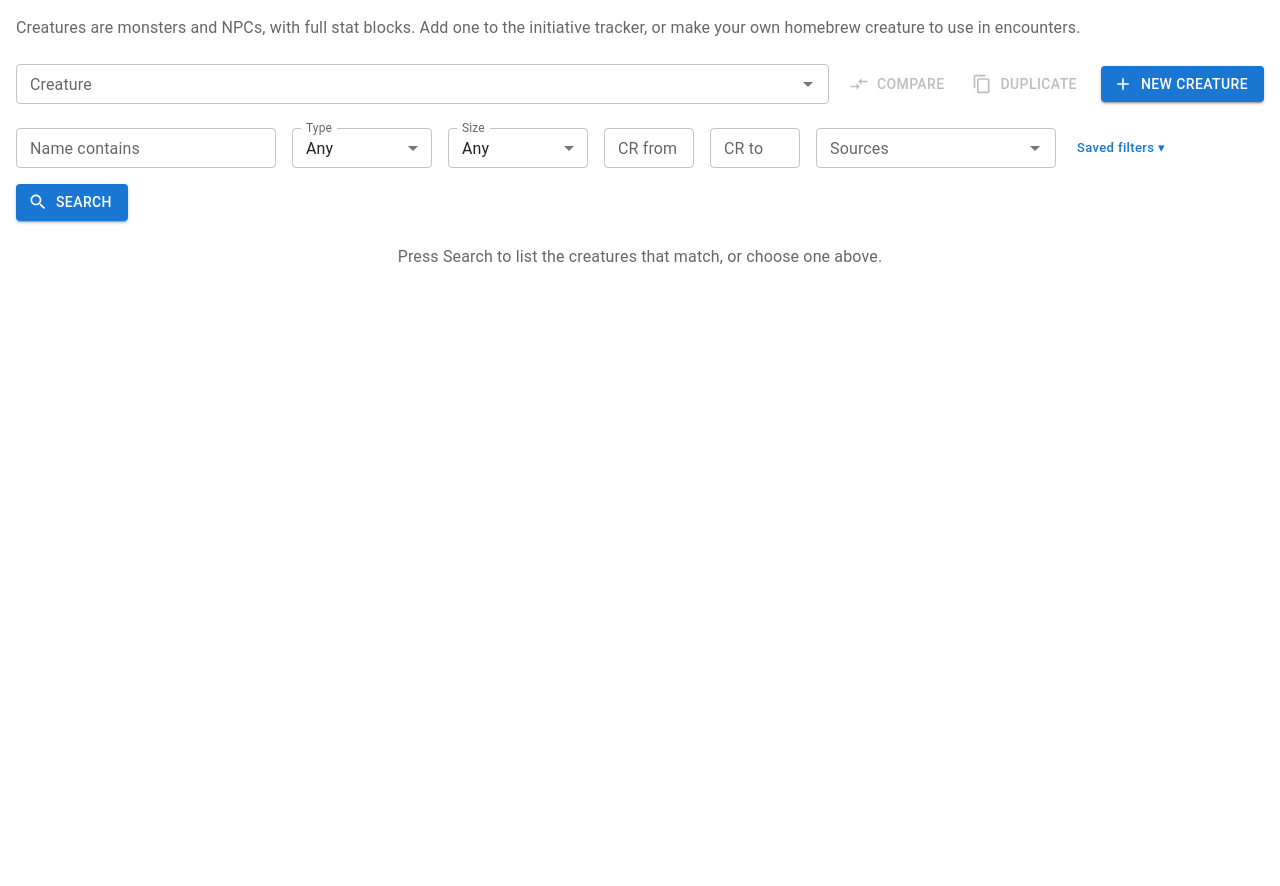
changing your own creatures › asks before deleting, and then deletes
In the dropdown labelled "Creature": [406, 84] box top-left (22, 70), bottom-right (790, 98), type "Gribble"
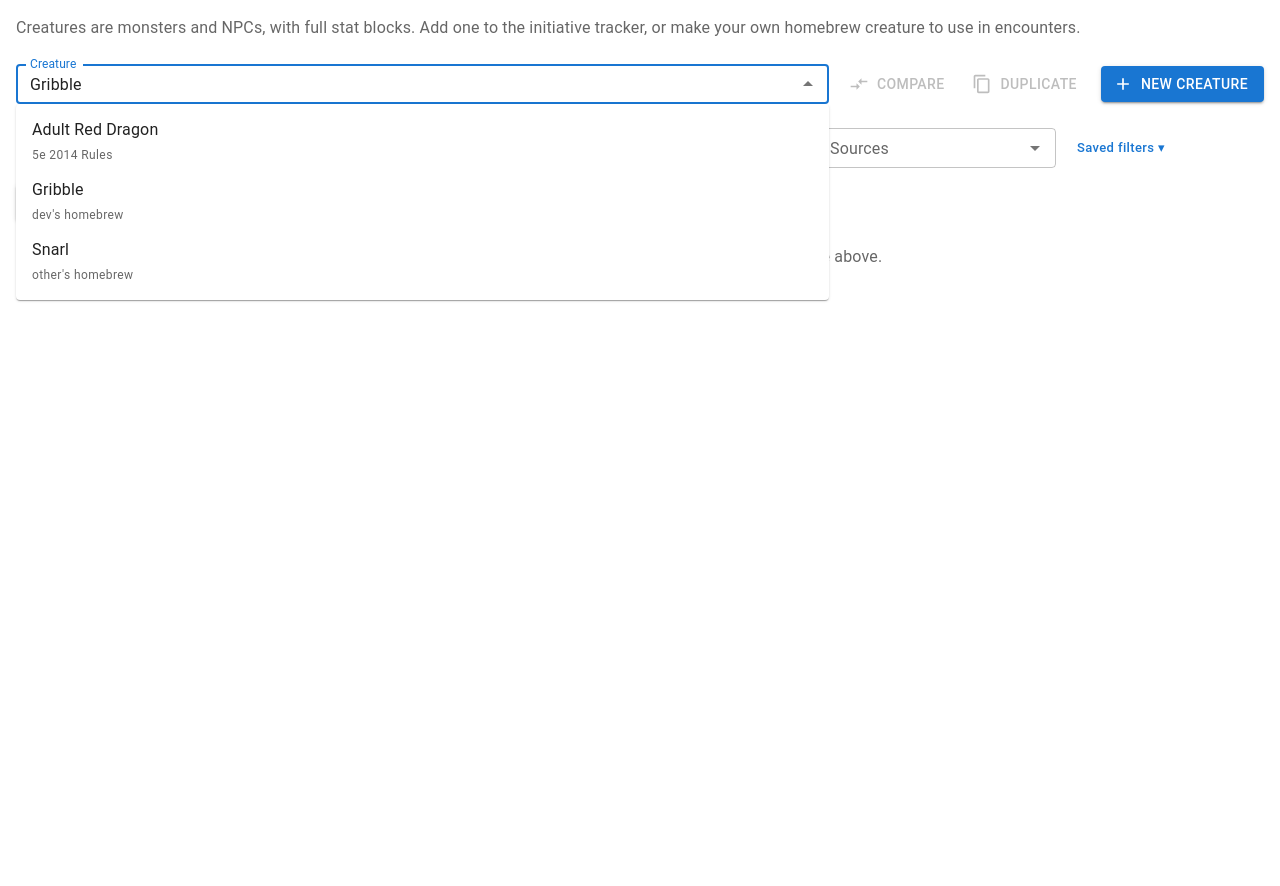
Click the option "Gribble dev's homebrew": [78, 201] box top-left (32, 180), bottom-right (124, 222)
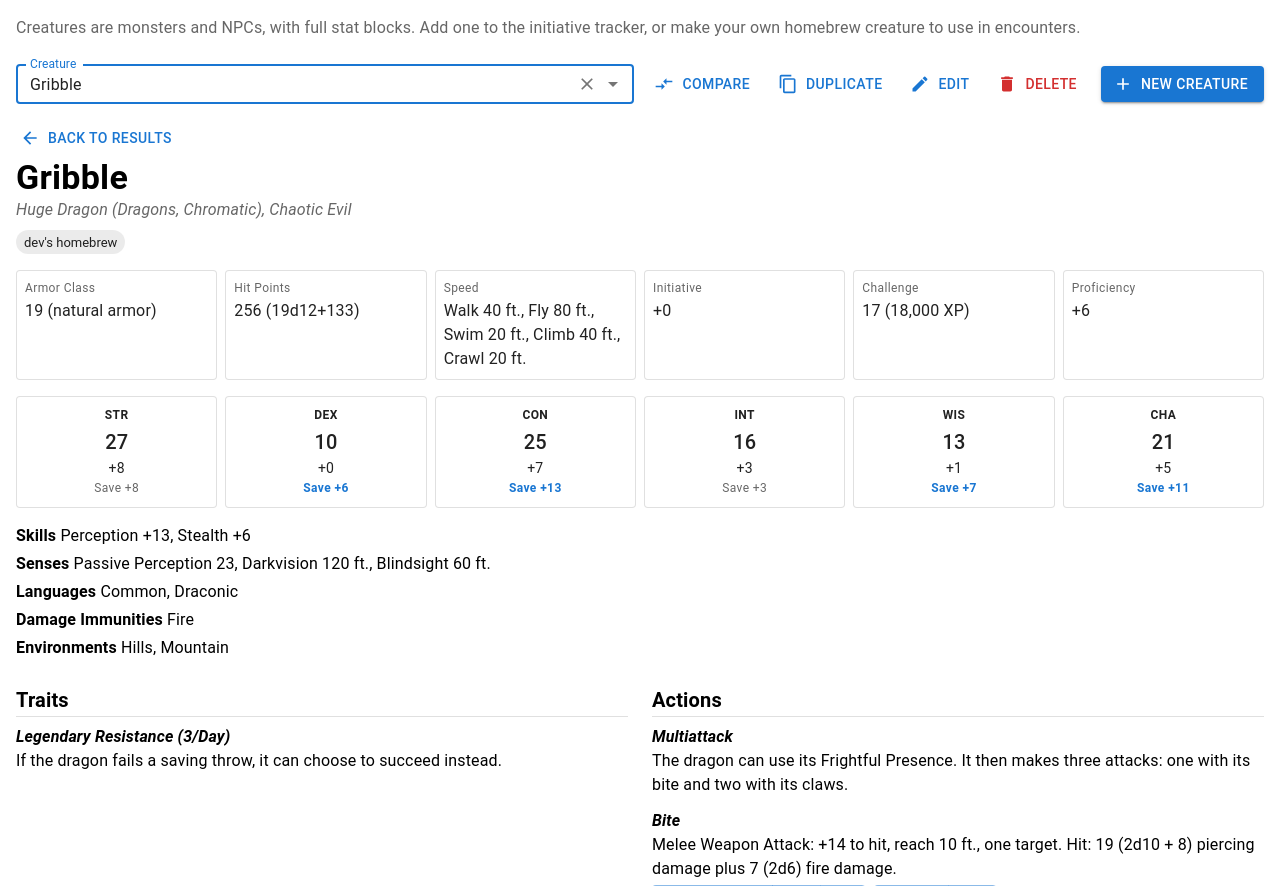
Click the button "Delete": [1039, 84] box top-left (993, 66), bottom-right (1085, 102)
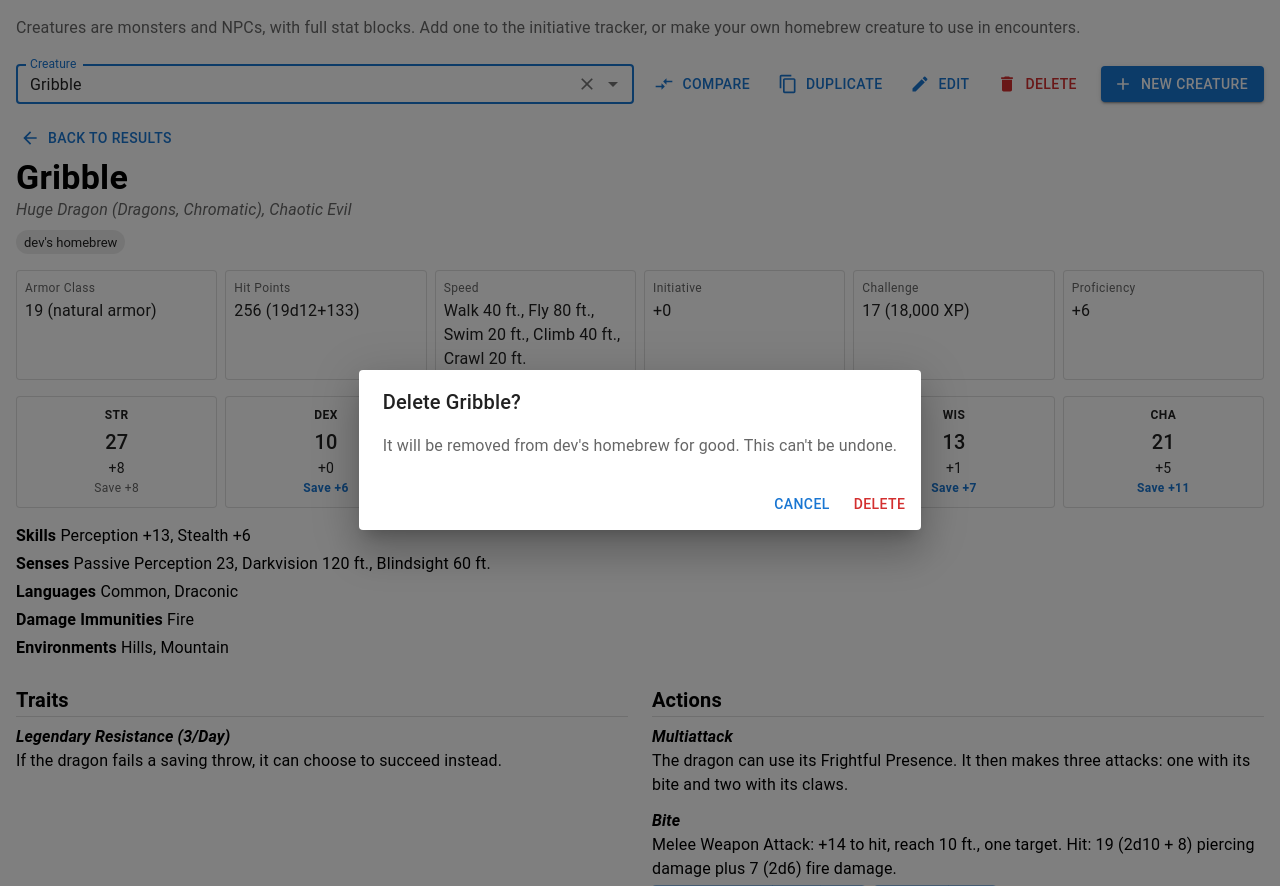
Expected: the heading "Delete Gribble?" is shown, top-left (383, 390), bottom-right (521, 414)
Click the button "Cancel": [802, 504] box top-left (766, 486), bottom-right (838, 522)
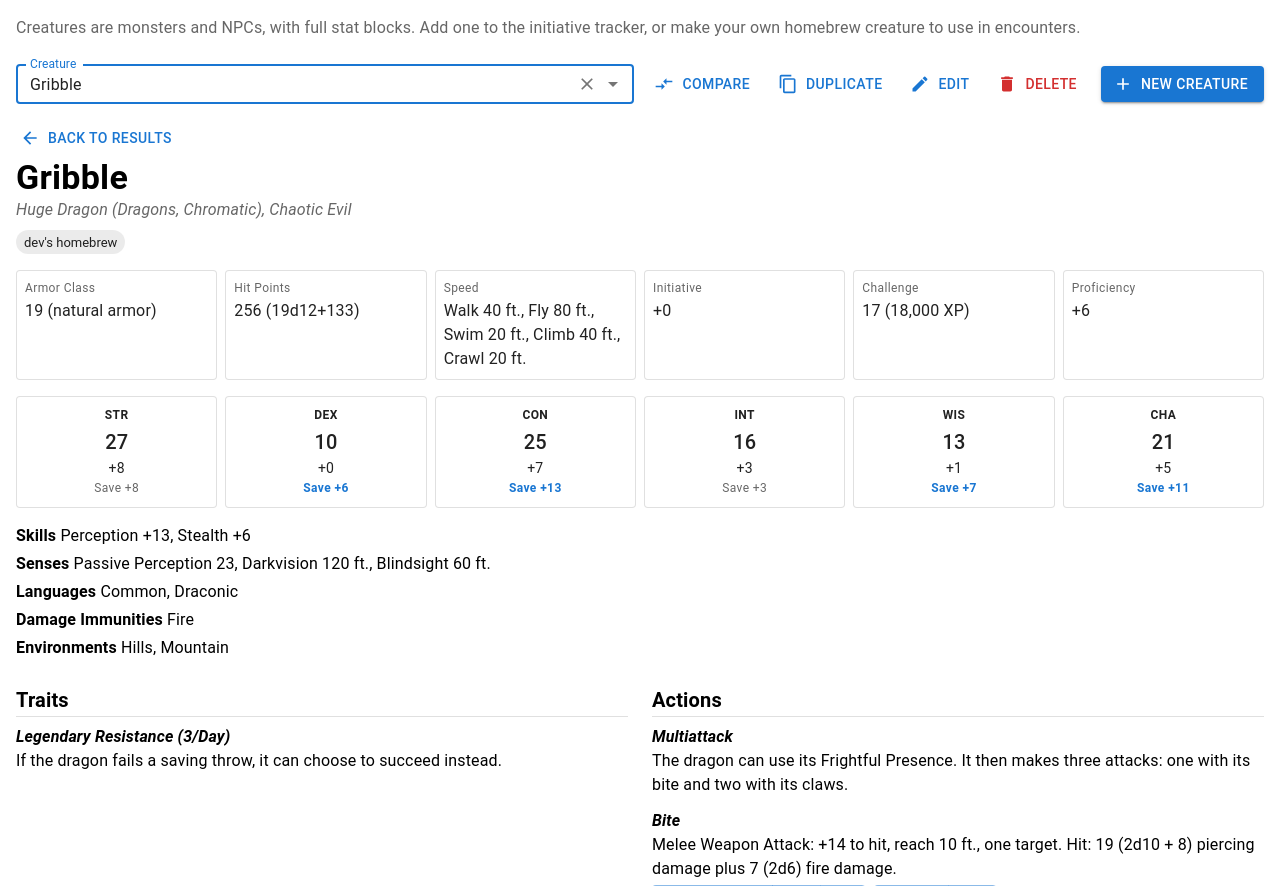
Expected: the heading "Gribble" is shown, top-left (16, 156), bottom-right (128, 196)
Expected: the dialog is gone
Click the button "Delete": [1039, 84] box top-left (993, 66), bottom-right (1085, 102)
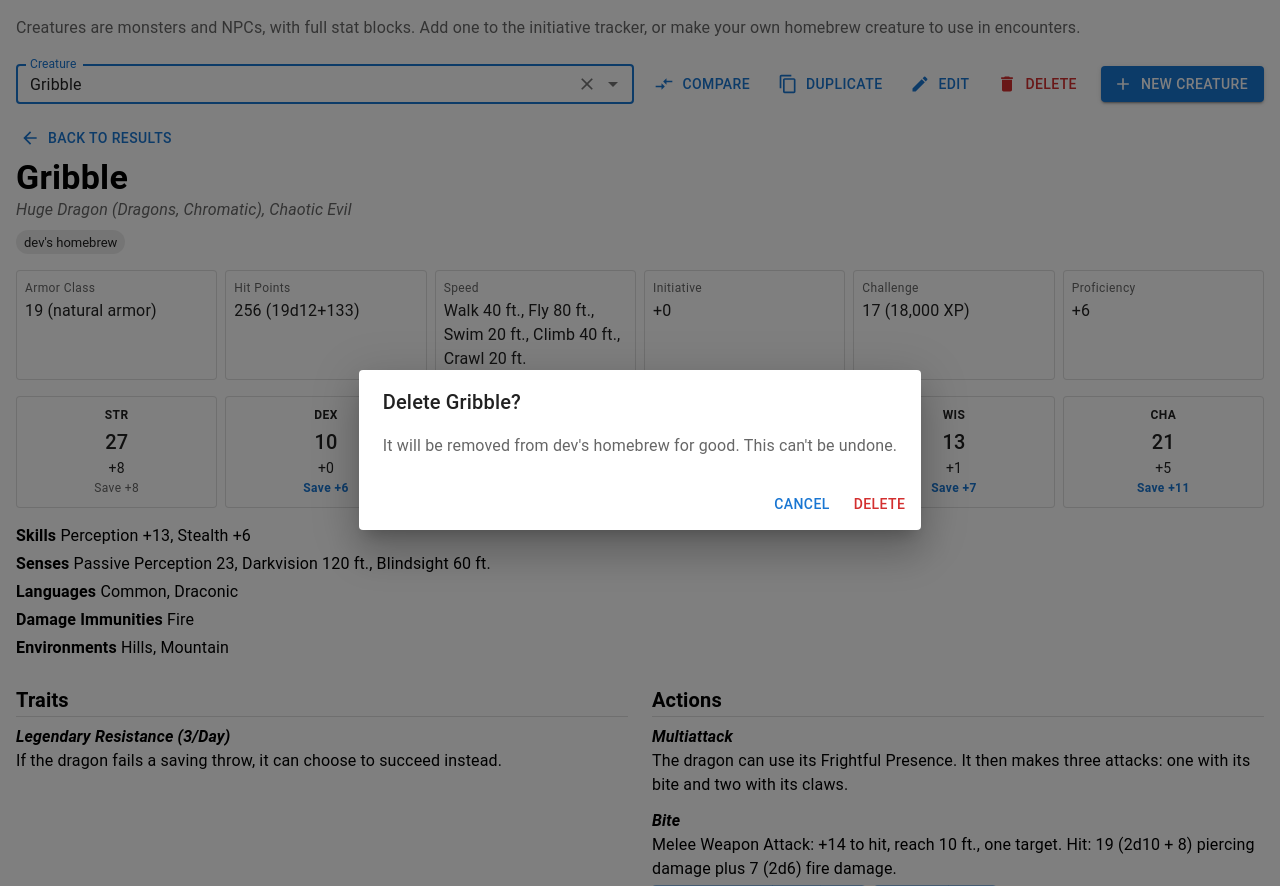
Click the button "Delete": [879, 504] box top-left (846, 486), bottom-right (913, 522)
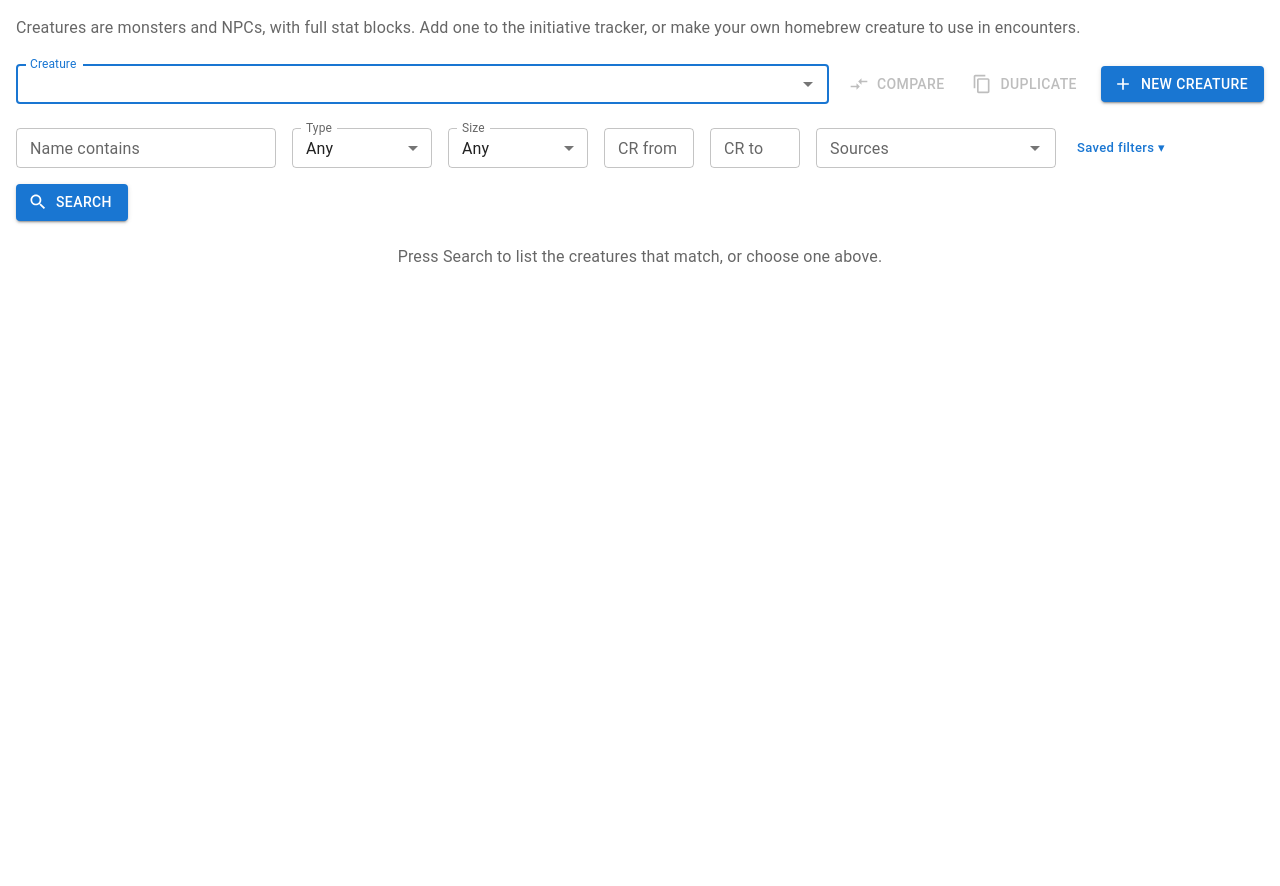
Expected: the text "Press Search to list the creatures that match, or choose one above." is shown, top-left (398, 246), bottom-right (882, 266)
